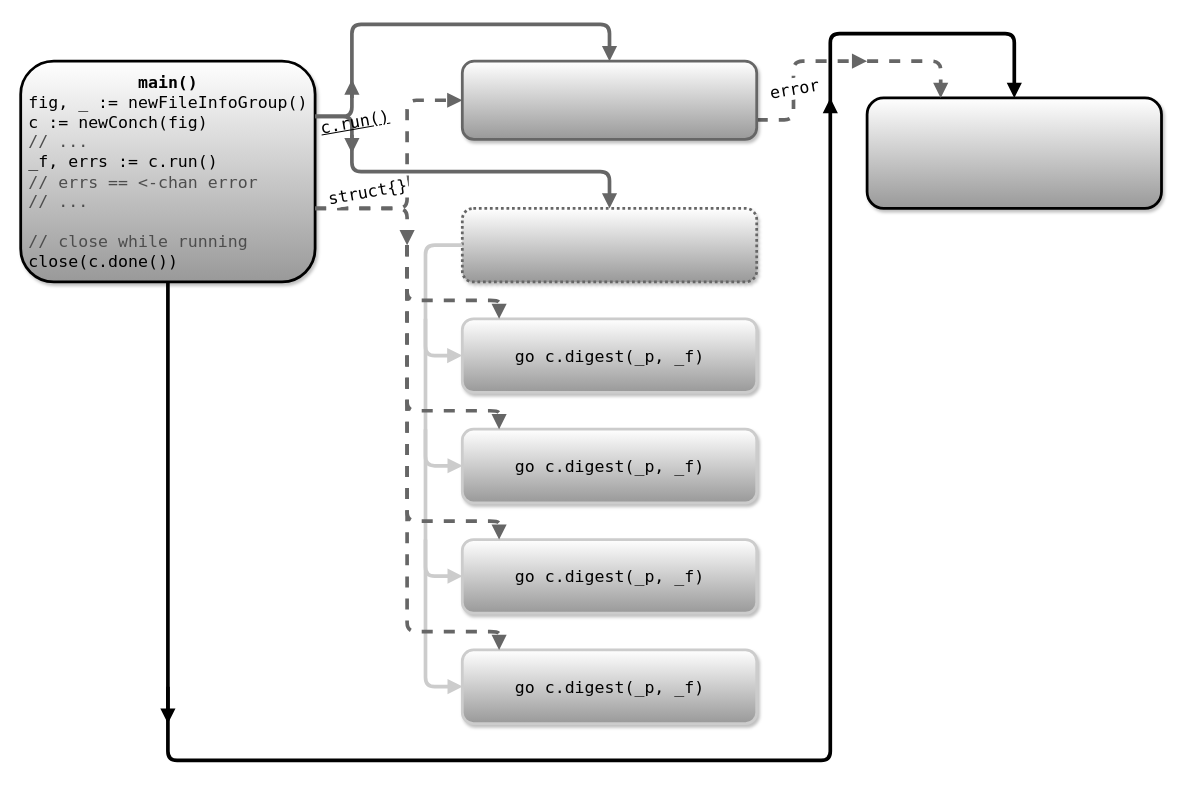
Some shapes in this 1184 by 785 pixel diagram are drawn without their labels. Here are the shapes that lost their labels. From the top down, the centre of each, then its label:
At (610,101): "_p, errs := c.produce() // errs == <-chan error".
At (1015,154): "main() select { case err := <-errs: default: }".
At (610,246): "_f := c.consume(_p)".
